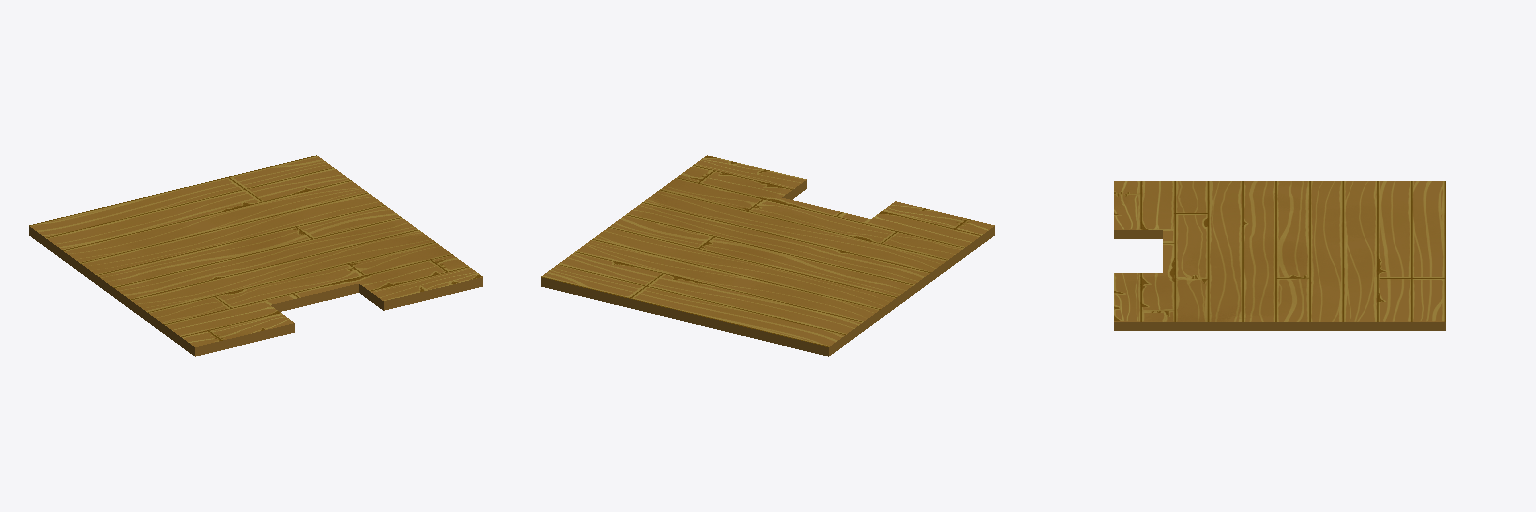
3 renders of one model, left to right at view 1: azimuth 30°, elevation 25°; view 2: azimuth 150°, elevation 25°; view 3: azimuth 270°, elevation 25°, orthographic.
Visible parts, largest first — view 1: pasted__pCube275 group; view 2: pasted__pCube275 group; view 3: pasted__pCube275 group.
Part boxes in pixels (left/top/right/bottom): pasted__pCube275 group: left=29, top=155, right=482, bottom=356; pasted__pCube275 group: left=541, top=155, right=994, bottom=356; pasted__pCube275 group: left=1114, top=181, right=1445, bottom=330.
Size of the model in its own units: 7.32 by 0.2287 by 7.32.
Materials: 1 (1 with a texture image).